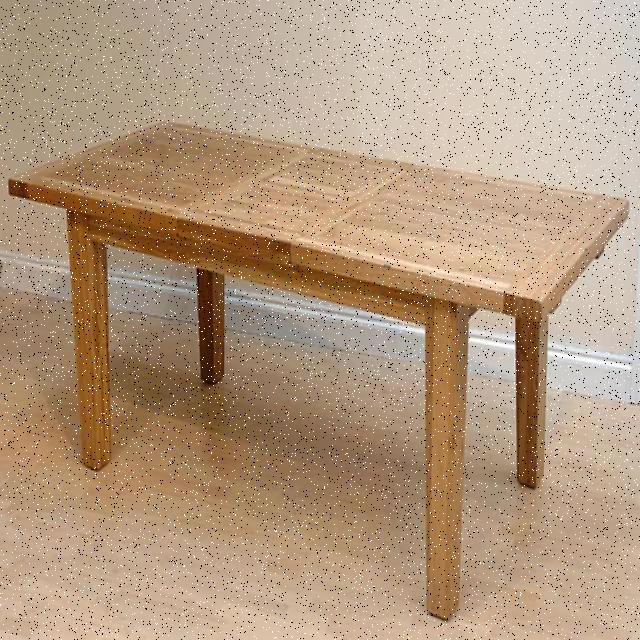mobile-phone: (0, 119, 631, 623)
